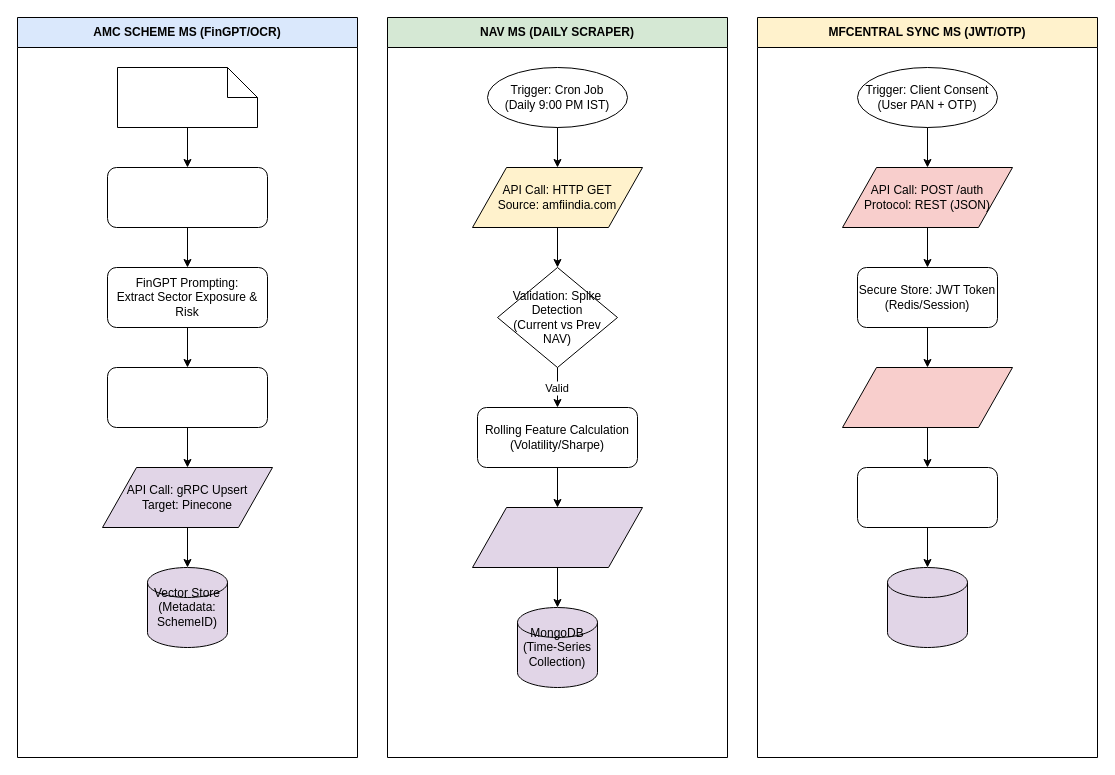
This 1115x775 diagram has some shape labels left out. Each missing label, with the centre of its shape:
"API Call: GET /cas_fetch Header: Bearer JWT" belongs at [927,397].
"Bulk Insert: NoSQL Driver Format: BSON/JSON" belongs at [557,537].
"Chunking & Text-to-Vector (OpenAI Embeddings)" belongs at [187,397].
"Data Normalization: Map Folios to AMFI Codes" belongs at [927,497].
"Input: PDF Factsheets (Monthly/SID)" belongs at [187,97].
"JDBC Write: SQL DB (User Assets)" belongs at [927,607].
"PyMuPDF / OCR Extraction (Text + Table Parsing)" belongs at [187,197].
